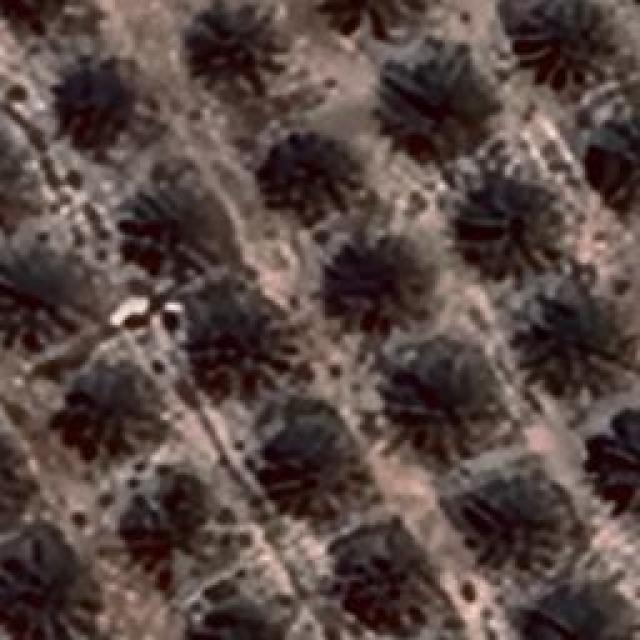PalmTree: (45, 97, 95, 589), (95, 17, 372, 97), (325, 522, 435, 632), (114, 478, 224, 574), (175, 296, 293, 384), (258, 414, 362, 512), (384, 56, 488, 152), (458, 480, 562, 572), (119, 180, 219, 275), (388, 356, 492, 446), (328, 241, 432, 331), (458, 180, 556, 270), (185, 8, 285, 94), (260, 131, 360, 214), (512, 0, 612, 80), (535, 311, 620, 399), (62, 371, 158, 444), (57, 57, 135, 145), (0, 244, 75, 326), (525, 587, 640, 640), (191, 587, 291, 640), (595, 416, 640, 512), (0, 126, 36, 232), (597, 118, 640, 206), (0, 424, 28, 521), (0, 0, 72, 28), (0, 120, 18, 230), (0, 422, 17, 520), (0, 120, 12, 229)
